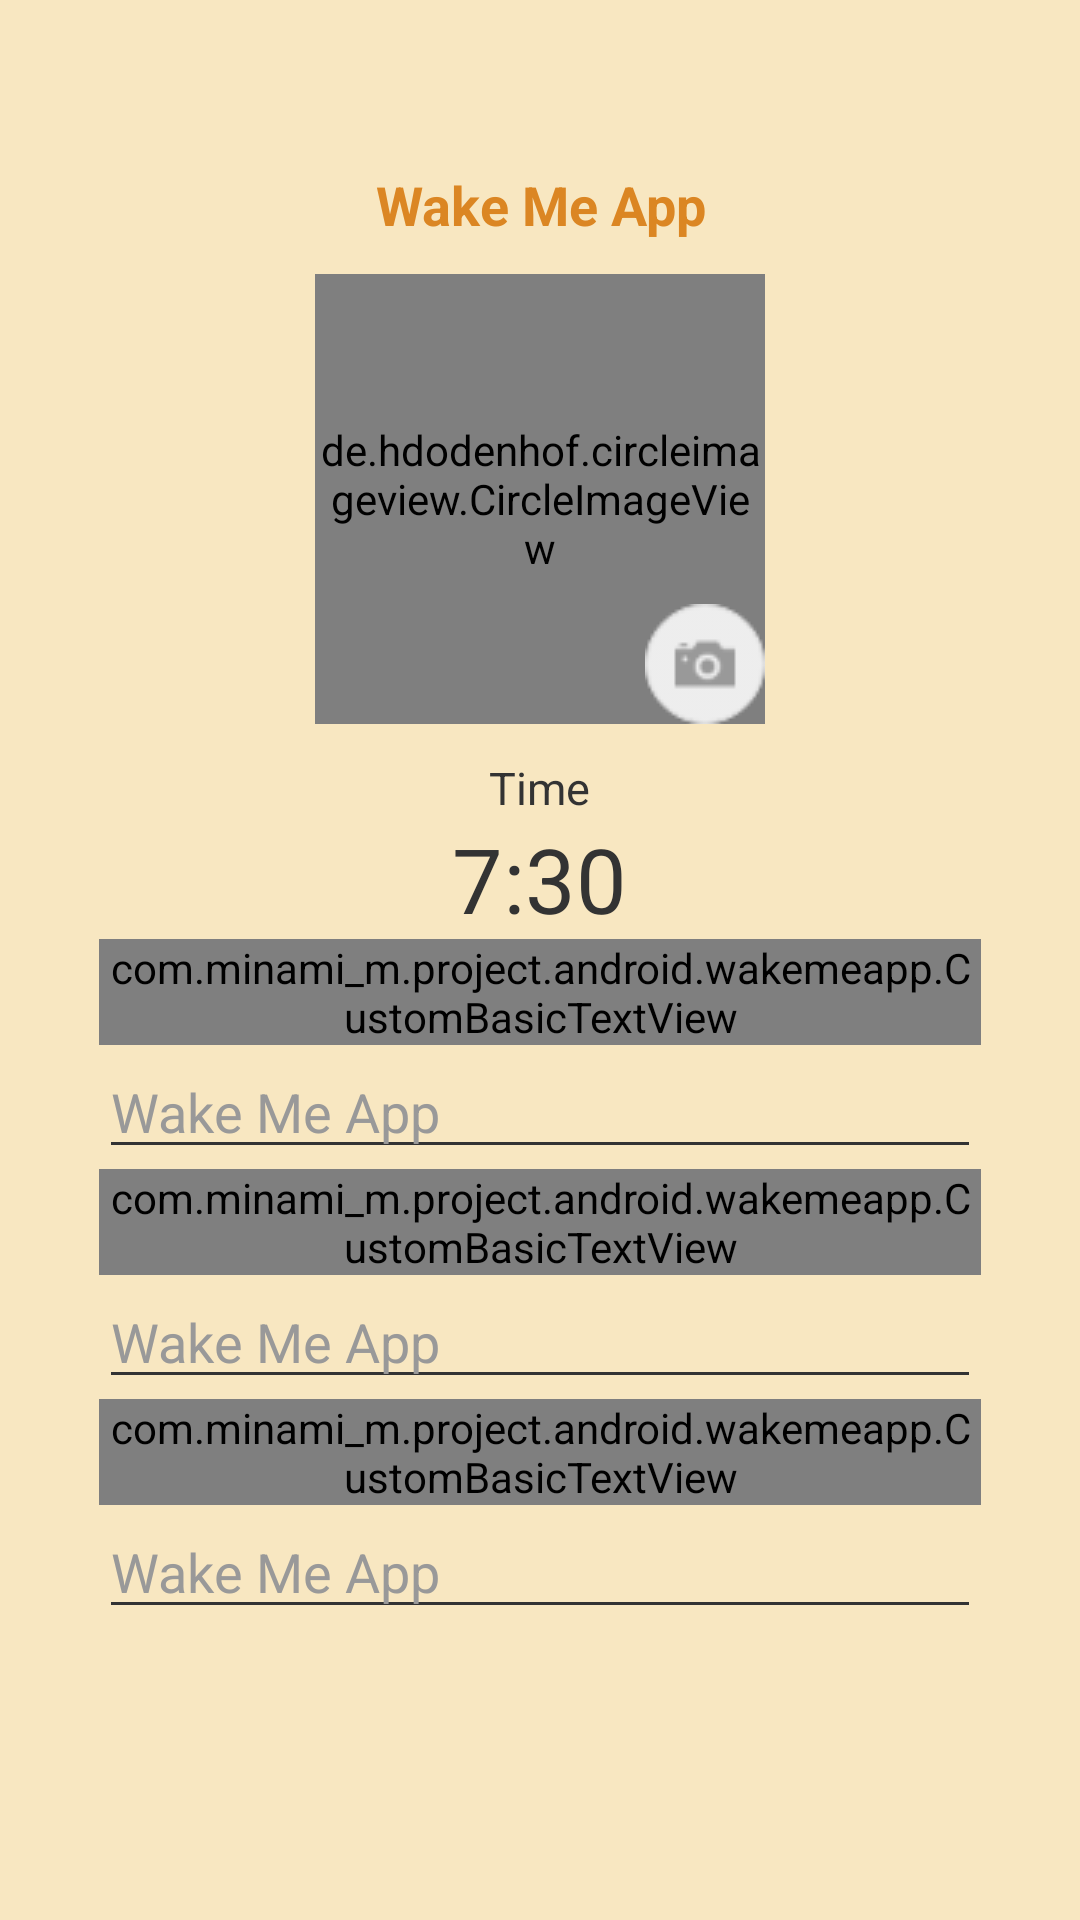

Named icons in this screenshot (1080w x 1920h) and their centers, (x,y):
camera: (705,664)
